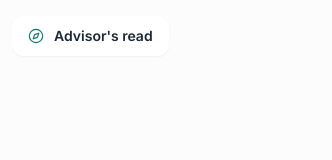
Scenario: AdvisorReadCard Component › 2. Clicking button transitions to loading state with aria-busy=true
Click the button "Advisor's read" at (90, 36), box left=12, top=16, right=169, bottom=56
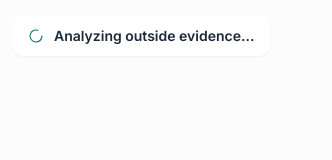
Expected: the button "Analyzing outside evidence..." has attribute aria-busy="true", left=12, top=16, right=270, bottom=56
